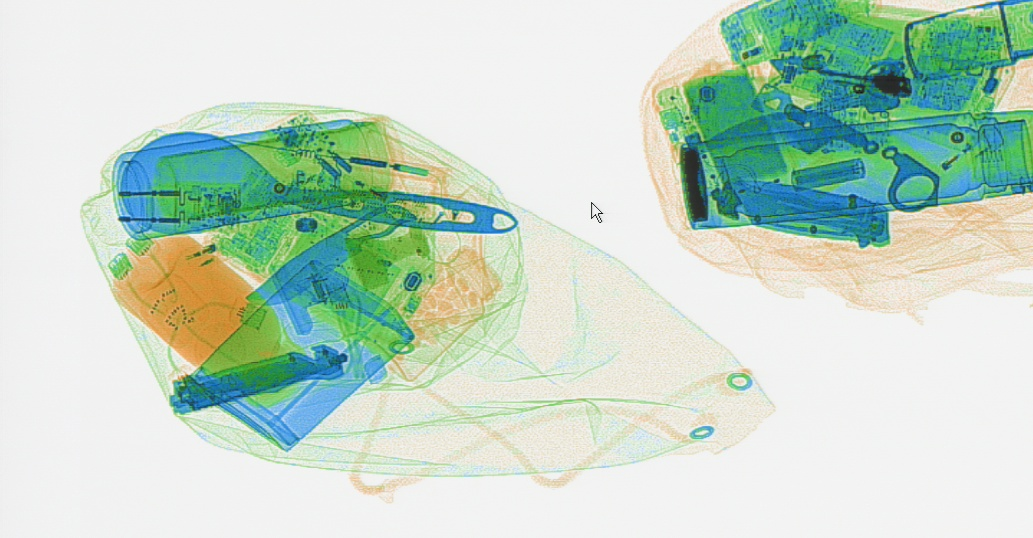knife: (680, 105, 941, 214), (243, 202, 419, 306), (710, 176, 892, 251), (167, 340, 348, 414)
lighter: (885, 121, 1007, 211), (128, 226, 249, 295), (312, 164, 429, 229)
